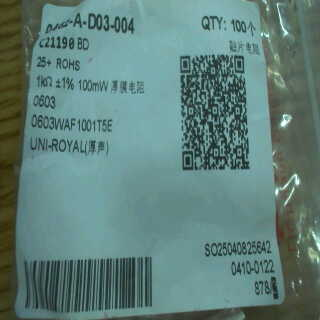1kR: (33, 71, 55, 93)
